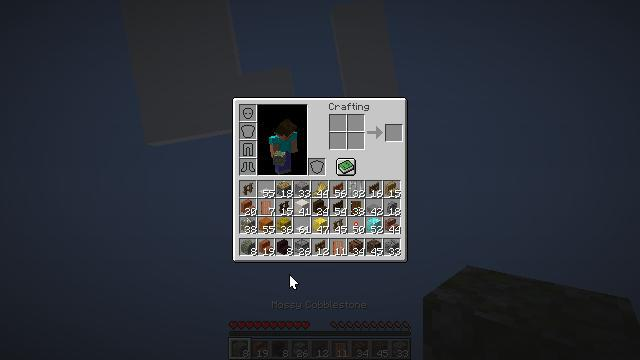cursor: (289, 274, 299, 290)
